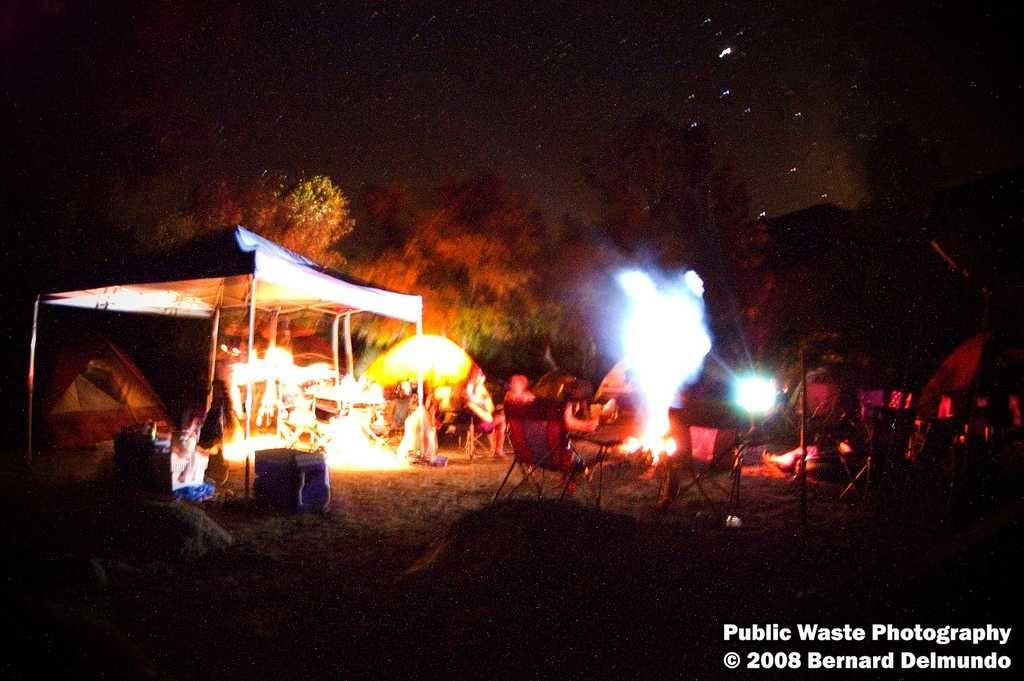fire: (280, 373, 362, 440), (395, 342, 465, 387), (630, 395, 672, 452), (340, 445, 417, 472)
